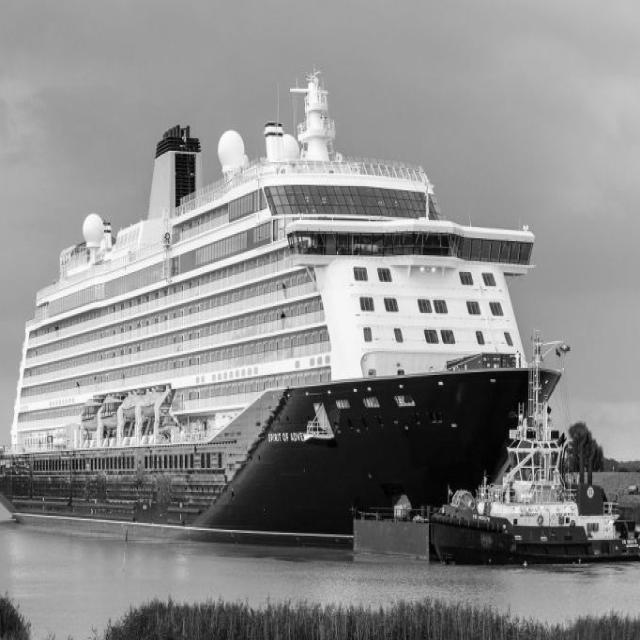cruises: (1, 65, 566, 567)
